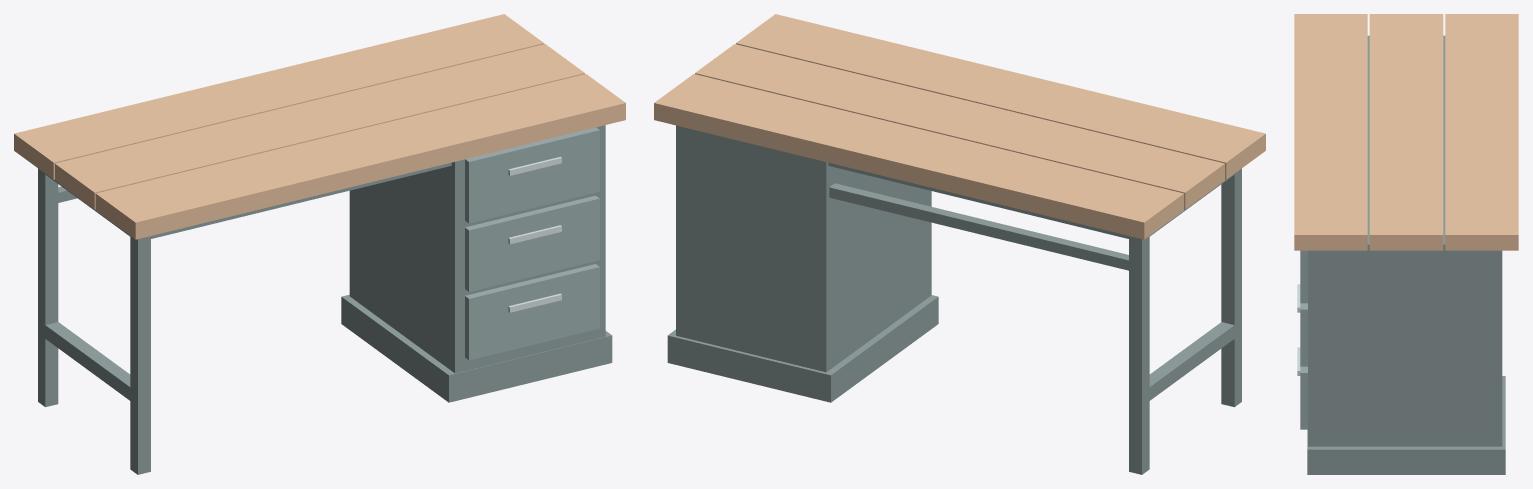
File: deskIndustrial.glb
The picture shows the model from 3 angles, left to right: view 1: azimuth 30°, elevation 25°; view 2: azimuth 150°, elevation 25°; view 3: azimuth 270°, elevation 25°; orthographic projection. The views are drawn at different scales.
Parts seen in each view (by area): view 1: deskIndustrial; view 2: deskIndustrial; view 3: deskIndustrial.
Part boxes in pixels (left/top/right/bottom): deskIndustrial: left=14, top=14, right=625, bottom=474; deskIndustrial: left=654, top=14, right=1265, bottom=474; deskIndustrial: left=1294, top=14, right=1518, bottom=474.
Bounding box in the file's own units: 0.75 × 0.385 × 0.322.
